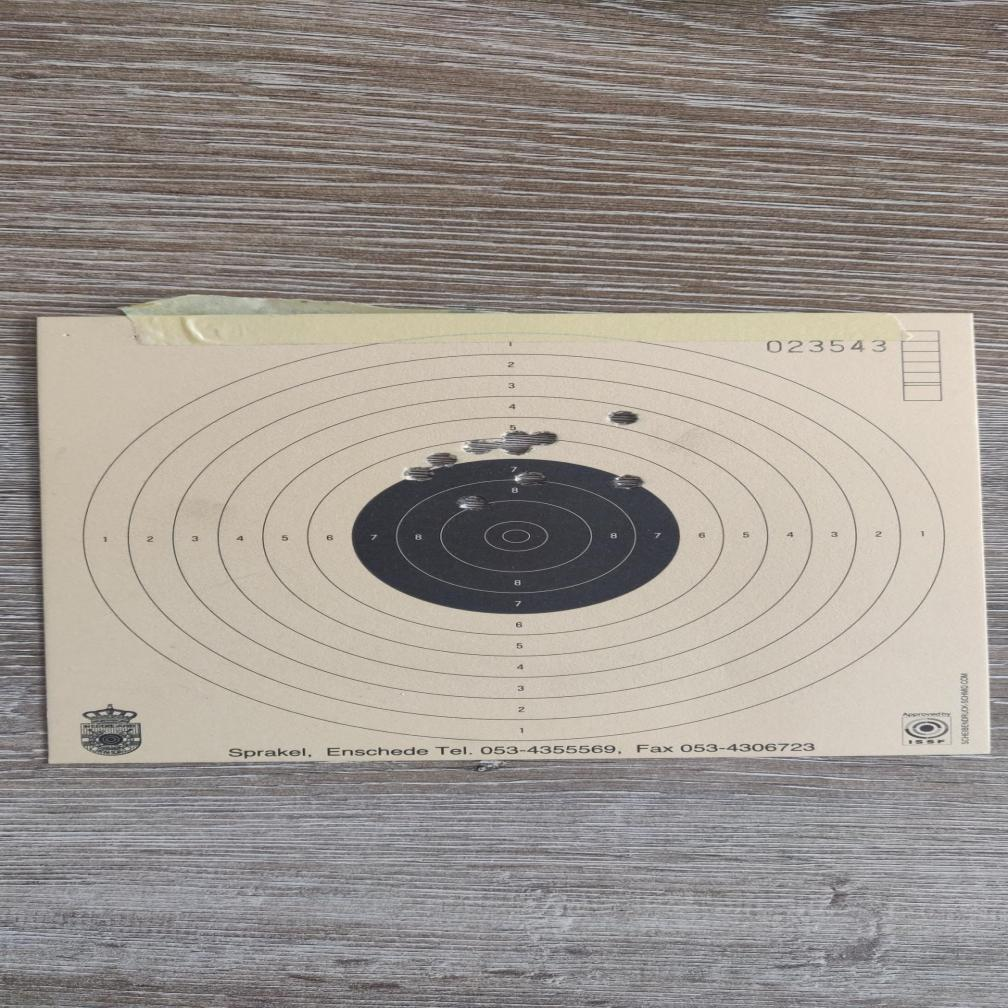4: (606, 410, 641, 426)
5: (532, 430, 559, 446)
6: (462, 438, 495, 454), (498, 443, 534, 456), (501, 429, 532, 442)
7: (424, 452, 460, 468), (402, 466, 435, 482), (613, 474, 645, 490)
8: (514, 470, 548, 487)
9: (455, 494, 491, 512)
Target: (77, 329, 953, 744)
black_contour: (350, 458, 682, 614)
